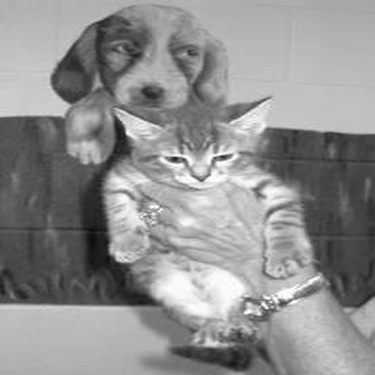cat: (101, 97, 316, 351)
dog: (47, 4, 230, 166)
